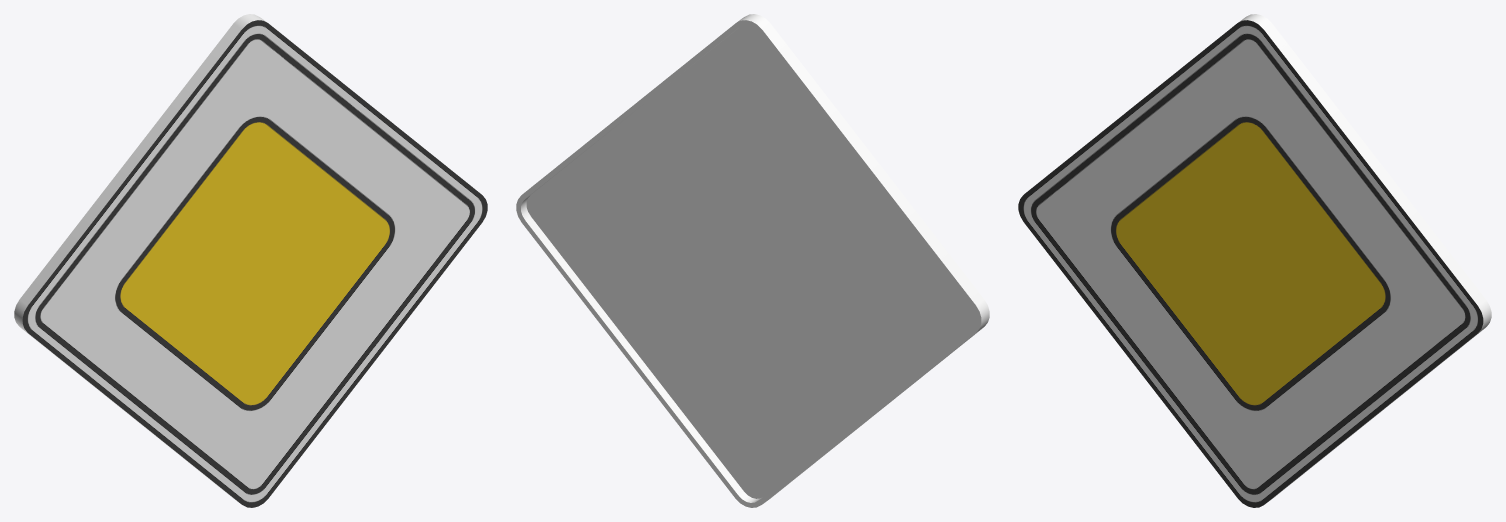
The model's file is Sign Main Road.FBX.
The picture shows the model from 3 angles, left to right: view 1: azimuth 30°, elevation 25°; view 2: azimuth 150°, elevation 25°; view 3: azimuth 330°, elevation 25°; orthographic projection.
Visible parts, largest first — view 1: Sign Main Road; view 2: Sign Main Road; view 3: Sign Main Road.
Boxes of the visible parts, x1=… form: Sign Main Road: x1=14, y1=14, x2=487, y2=507; Sign Main Road: x1=516, y1=14, x2=989, y2=507; Sign Main Road: x1=1018, y1=14, x2=1491, y2=507.
Bounding box in the file's own units: 96.41 × 96.41 × 3.
1 material, 1 textured.
